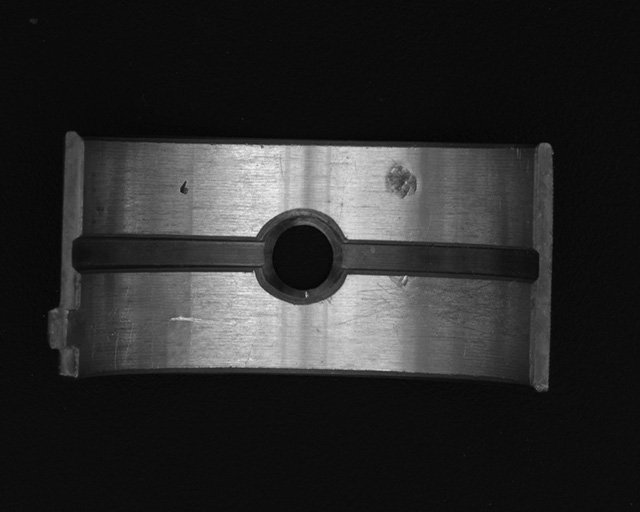bruise: (387, 160, 419, 202), (179, 178, 189, 196)
gap: (335, 239, 539, 285), (73, 235, 269, 274)
hole: (260, 209, 344, 305)
nick: (168, 315, 236, 330)
scratch: (337, 273, 516, 356)
